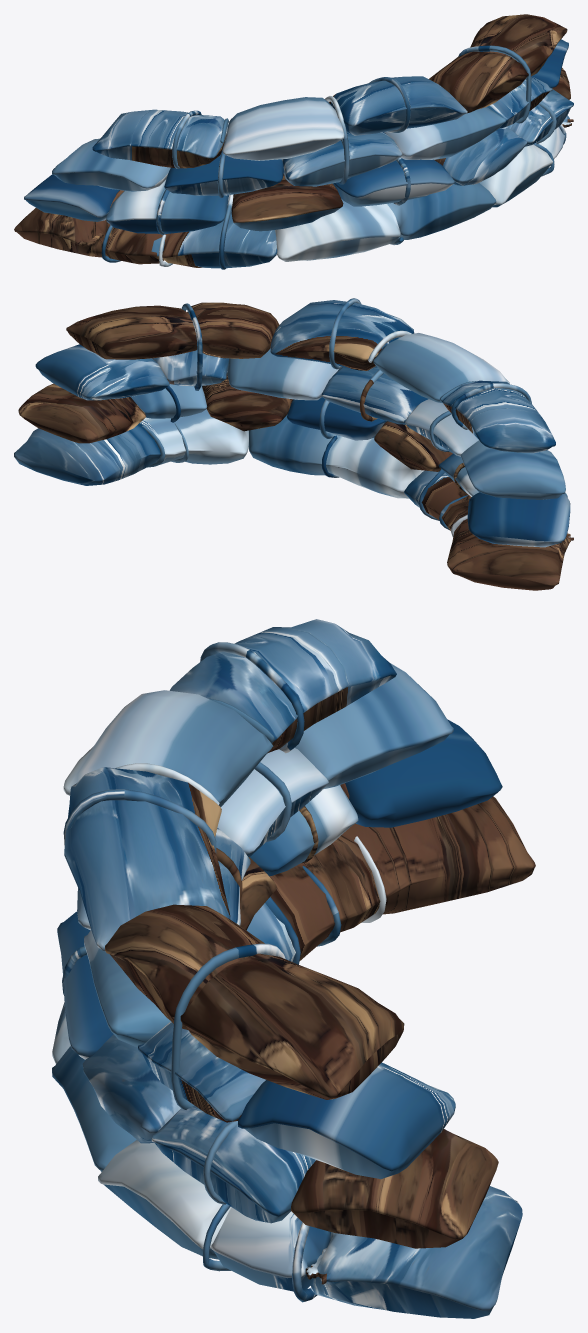
Rendered from Char002_Sandbag.fbx.
The picture shows the model from 3 angles, top to bottom: view 1: azimuth 30°, elevation 25°; view 2: azimuth 150°, elevation 25°; view 3: azimuth 270°, elevation 25°; orthographic projection. The views are drawn at different scales.
Parts seen in each view (by area): view 1: Char002_Sandbag; view 2: Char002_Sandbag; view 3: Char002_Sandbag.
Boxes of the visible parts, left/top/right/bottom form: Char002_Sandbag: left=14, top=14, right=573, bottom=269; Char002_Sandbag: left=14, top=298, right=573, bottom=590; Char002_Sandbag: left=52, top=619, right=535, bottom=1318.
Bounding box in the file's own units: 1.15 × 0.34 × 0.45.
